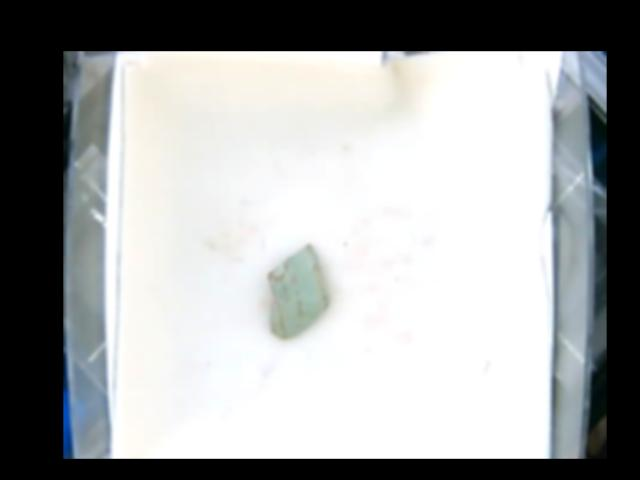China: (261, 244, 329, 340)
